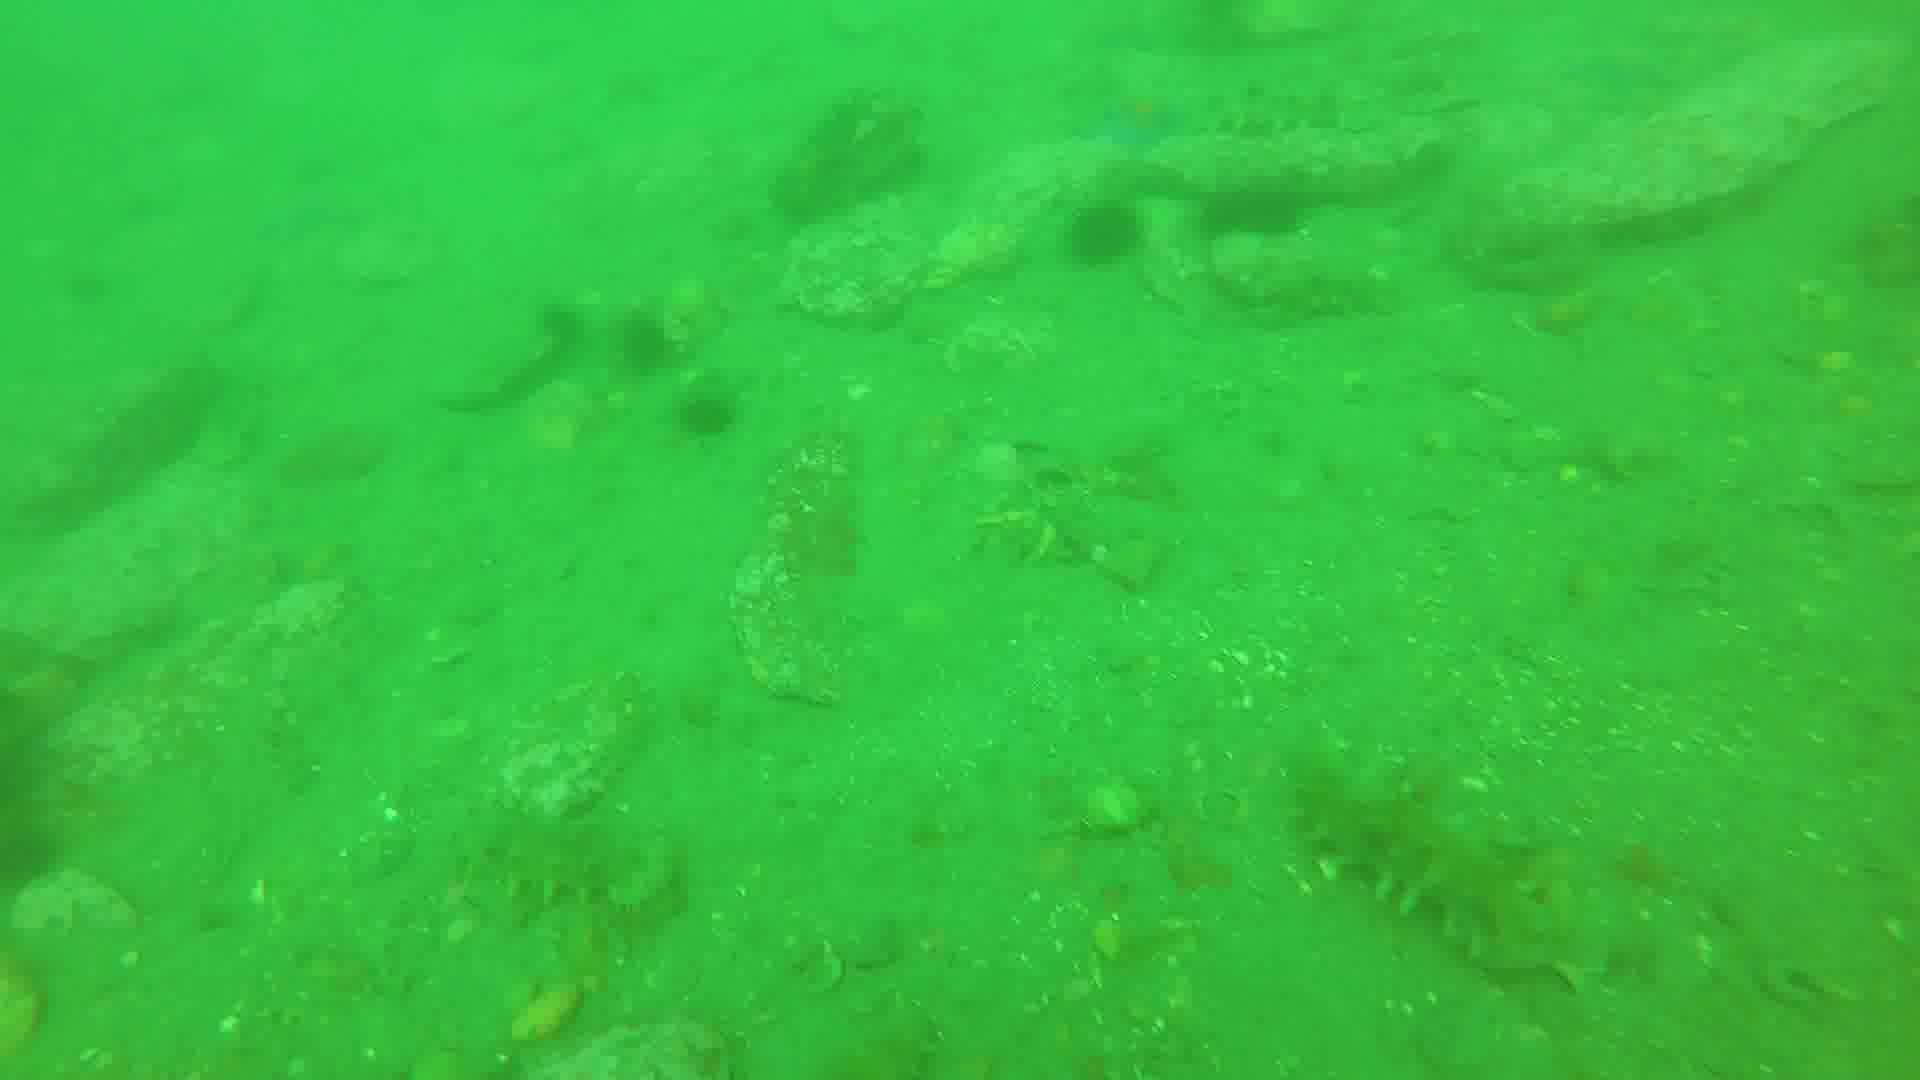echinus: (1205, 189, 1295, 243), (1067, 204, 1141, 266), (680, 396, 746, 440), (622, 314, 673, 371)
holothurian: (1296, 746, 1567, 977), (446, 798, 687, 905), (1207, 76, 1349, 135)
starfish: (1087, 90, 1189, 156)
